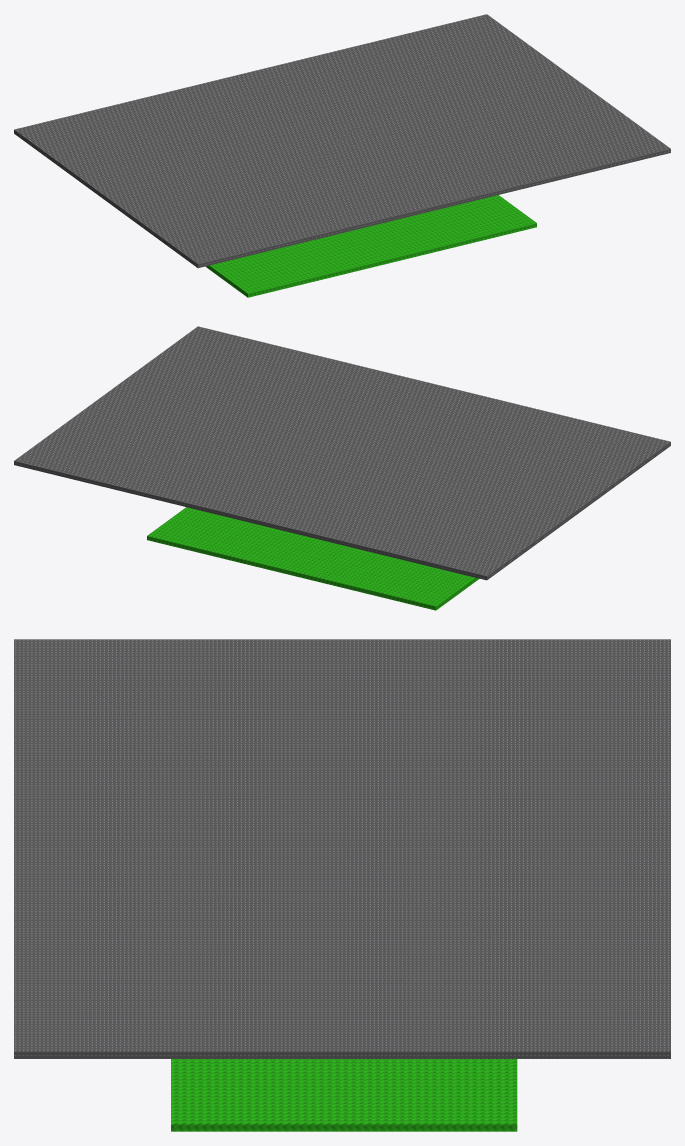
File: intro10_brush.glb
3 views of the same model, one above another, from view 1: azimuth 30°, elevation 25°; view 2: azimuth 150°, elevation 25°; view 3: azimuth 270°, elevation 25° (orthographic). The views are drawn at different scales.
Visible parts, largest first — view 1: intro10; view 2: intro10; view 3: intro10.
Part boxes in pixels (box(x1,y1,x2,y2)): intro10: box(14, 14, 670, 297); intro10: box(14, 326, 670, 610); intro10: box(14, 639, 670, 1131).
Size of the model in its own units: 30978 by 5550 by 20868.
Materials: 4 (4 with a texture image).
